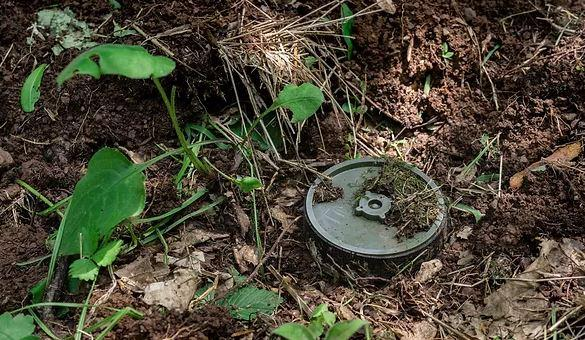pmn: (300, 153, 451, 294)
